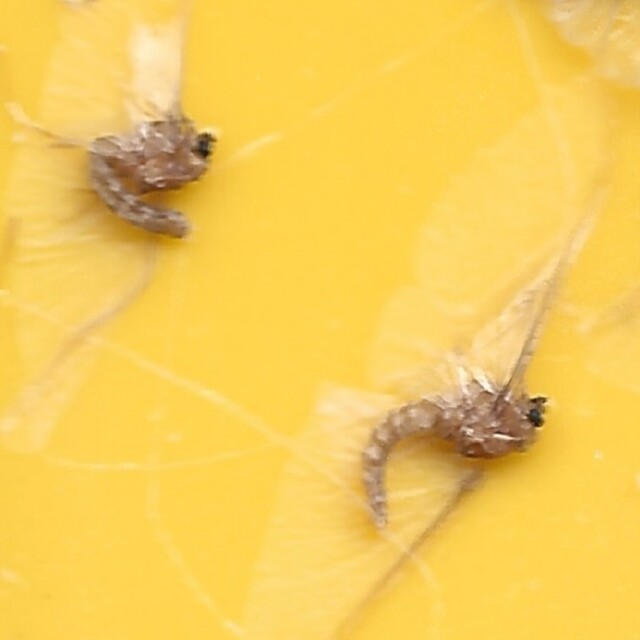Ephemeroptera: (352, 381, 556, 529), (84, 111, 223, 248)
